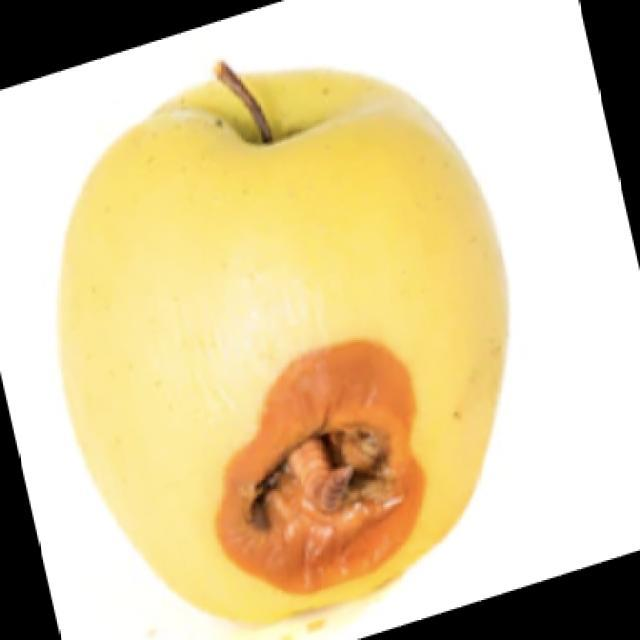Rotten: (87, 70, 510, 618)
